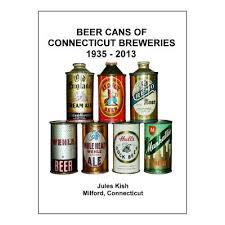beer: (50, 61, 175, 175)
